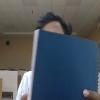notebook: (27, 28, 98, 99)
